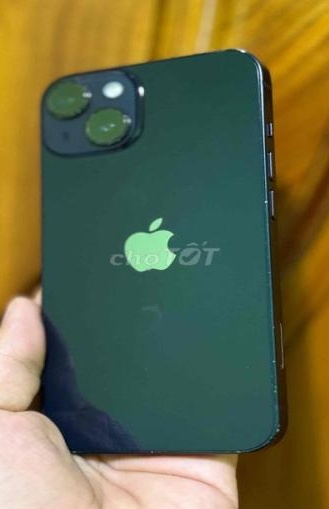scratch: (138, 295, 170, 334)
